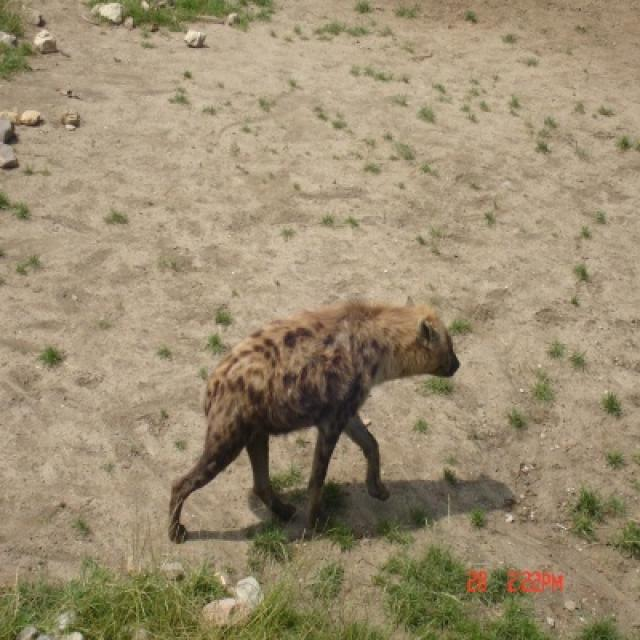hyena: (168, 301, 459, 542)
